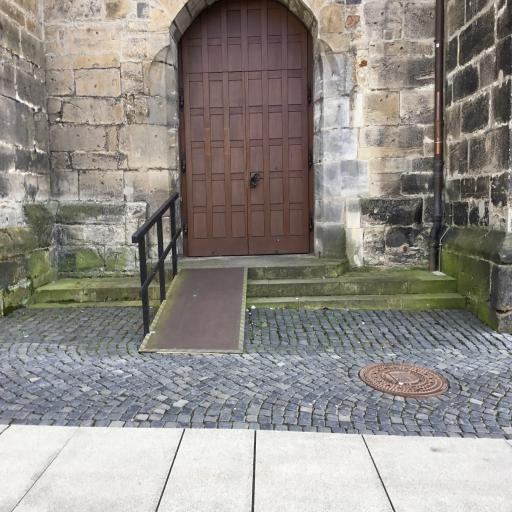ramp: (136, 260, 247, 356)
stairs: (249, 263, 466, 310)
